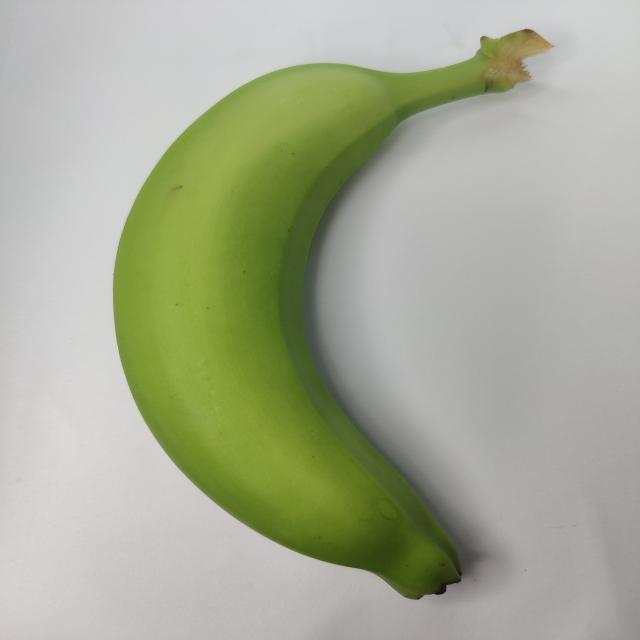raw: (64, 24, 576, 604)
